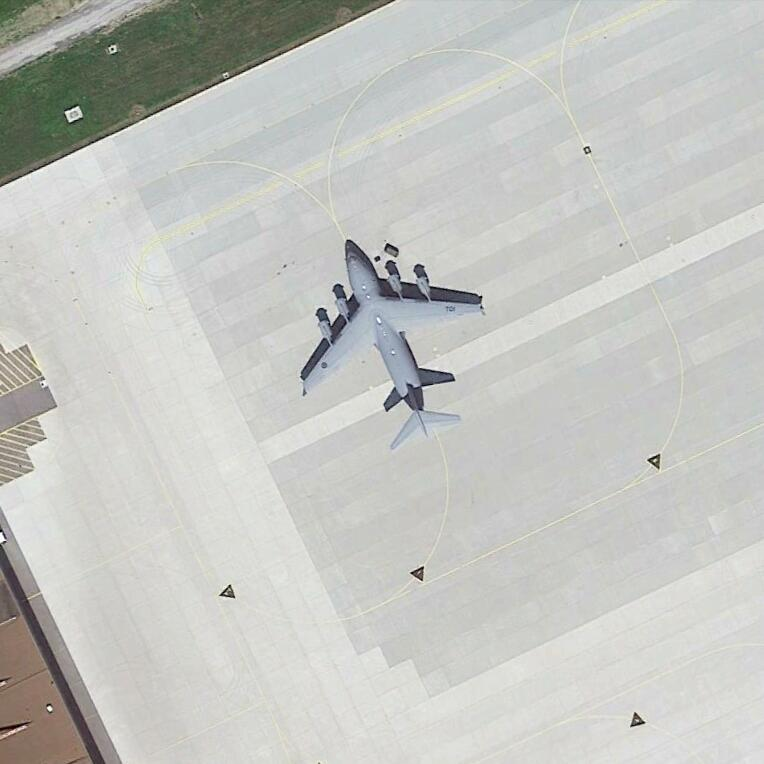A3: (295, 241, 486, 453)
